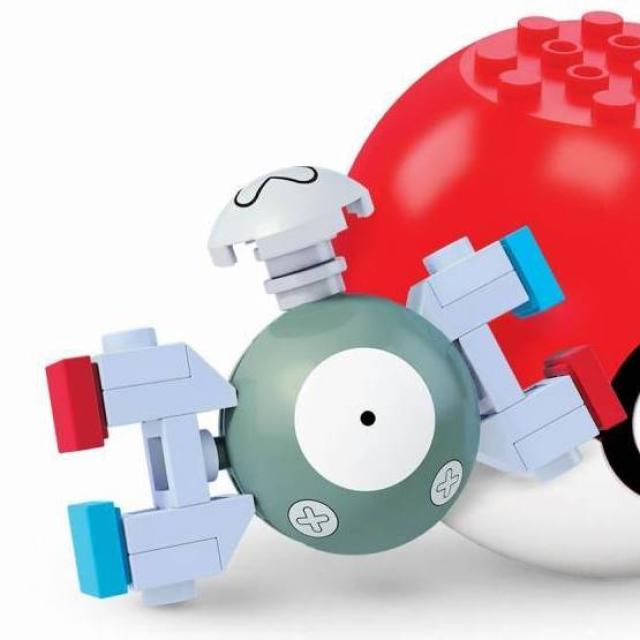Magnemite: (90, 269, 604, 586)
